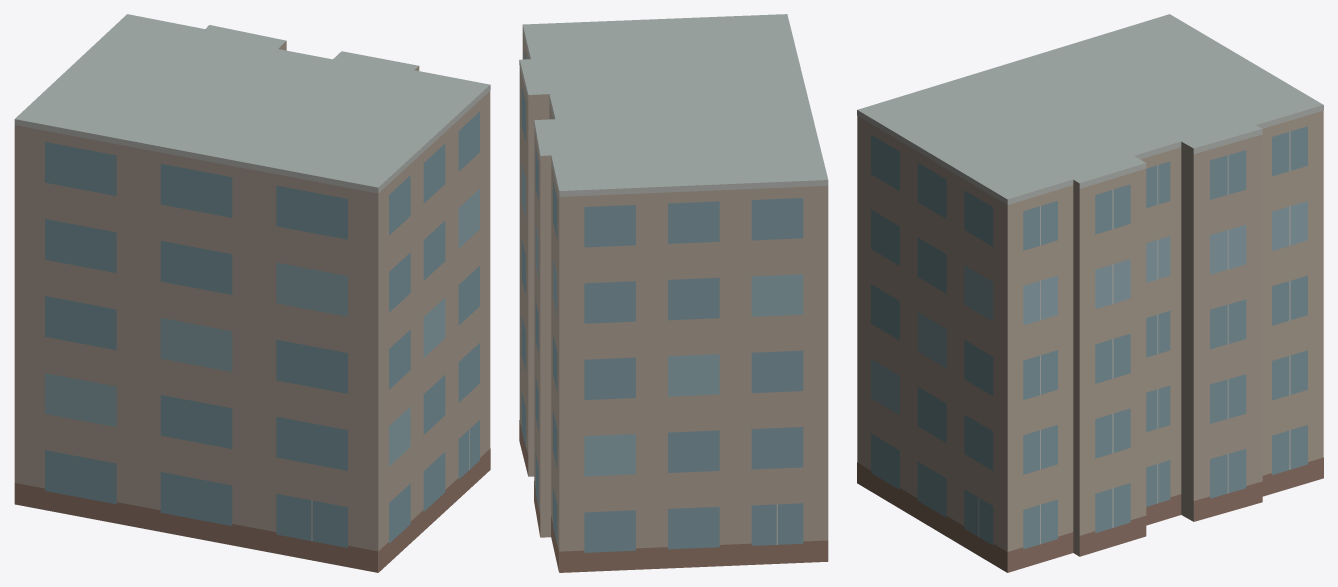
Rendered from survey-upis-32780877.glb.
3 renders of one model, left to right at view 1: azimuth 30°, elevation 25°; view 2: azimuth 150°, elevation 25°; view 3: azimuth 270°, elevation 25°, orthographic. The views are drawn at different scales.
Visible parts, largest first — view 1: survey-upis-32780877.tmp; view 2: survey-upis-32780877.tmp; view 3: survey-upis-32780877.tmp.
Boxes of the visible parts, left/top/right/bottom form: survey-upis-32780877.tmp: left=14, top=14, right=490, bottom=572; survey-upis-32780877.tmp: left=519, top=14, right=828, bottom=572; survey-upis-32780877.tmp: left=857, top=14, right=1323, bottom=572.
Bounding box in the file's own units: 17.11 × 16.05 × 18.18.
